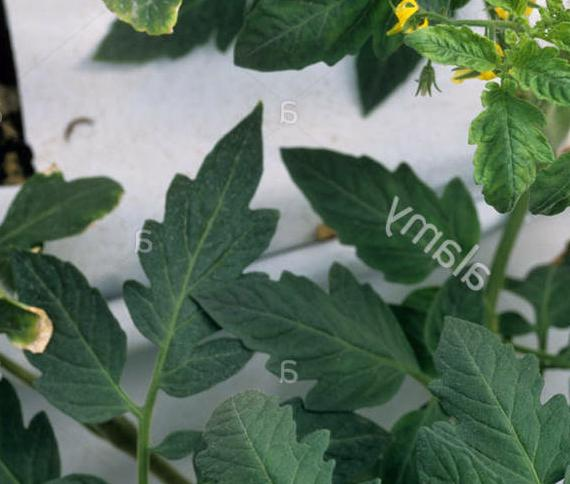Tomato leaf yellow virus: (460, 79, 550, 216), (395, 18, 523, 74), (489, 45, 570, 119)
